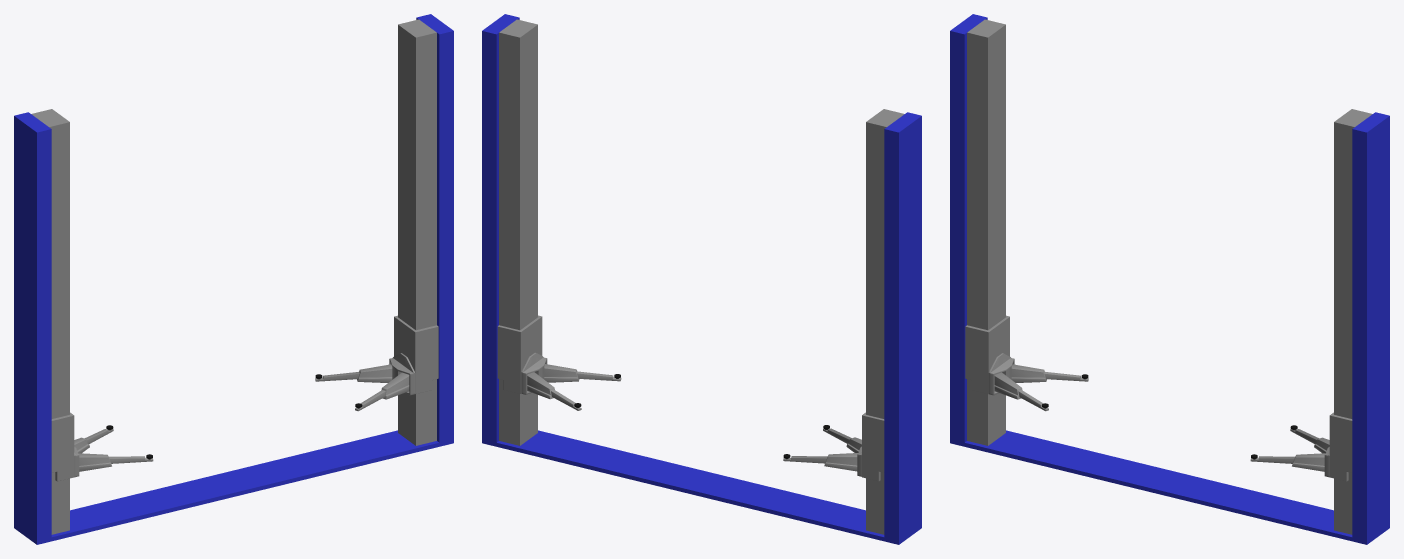
File: Elevador.fbx
3 renders of one model, left to right at view 1: azimuth 30°, elevation 25°; view 2: azimuth 150°, elevation 25°; view 3: azimuth 330°, elevation 25°, orthographic.
Visible parts, largest first — view 1: BaseElevador, Elevador; view 2: BaseElevador, Elevador; view 3: BaseElevador, Elevador.
Boxes of the visible parts, x1,y1,x2,y2 form: BaseElevador: (14, 14, 453, 544); Elevador: (51, 315, 438, 481); BaseElevador: (482, 14, 921, 544); Elevador: (497, 315, 884, 481); BaseElevador: (950, 14, 1389, 544); Elevador: (965, 315, 1352, 481).
Size of the model in its own units: 1338 by 1265 by 240.
